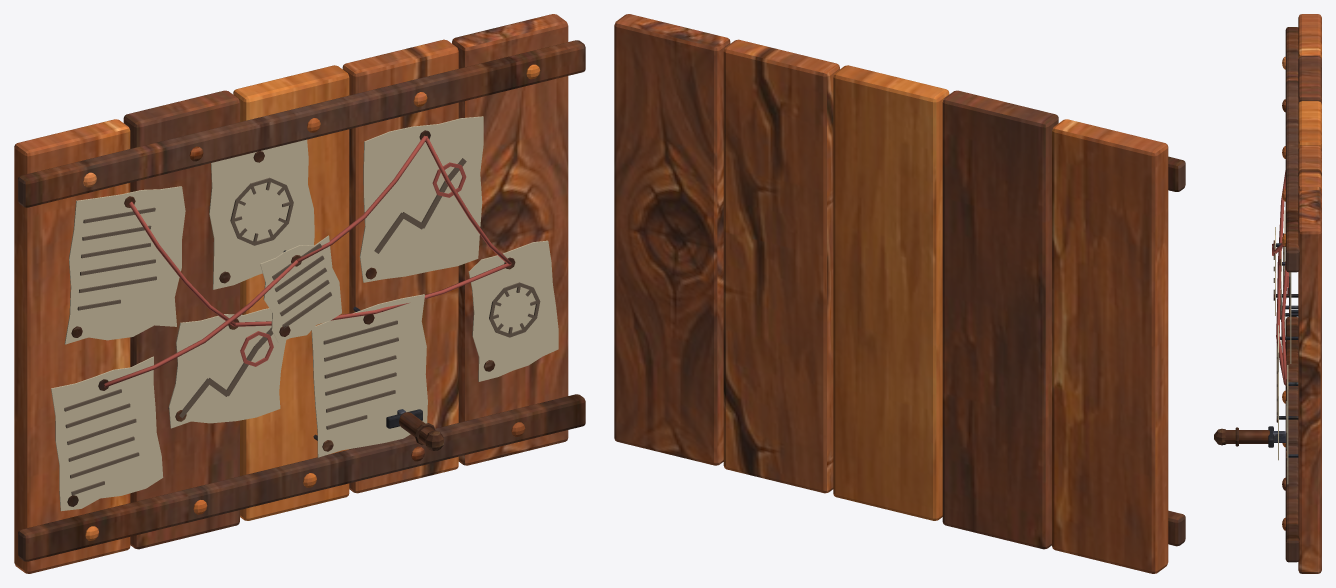
Rendered from op_madness_board.glb.
3 renders of one model, left to right at view 1: azimuth 30°, elevation 25°; view 2: azimuth 150°, elevation 25°; view 3: azimuth 270°, elevation 25°, orthographic. The views are drawn at different scales.
Parts seen in each view (by area): view 1: model; view 2: model; view 3: model.
Part boxes in pixels (x1,y1,x2,y2): model: (14,14,585,573); model: (614,14,1185,573); model: (1214,14,1321,573).
Size of the model in its own units: 1.13 by 0.8215 by 0.2291.
16 materials, 13 textured.
